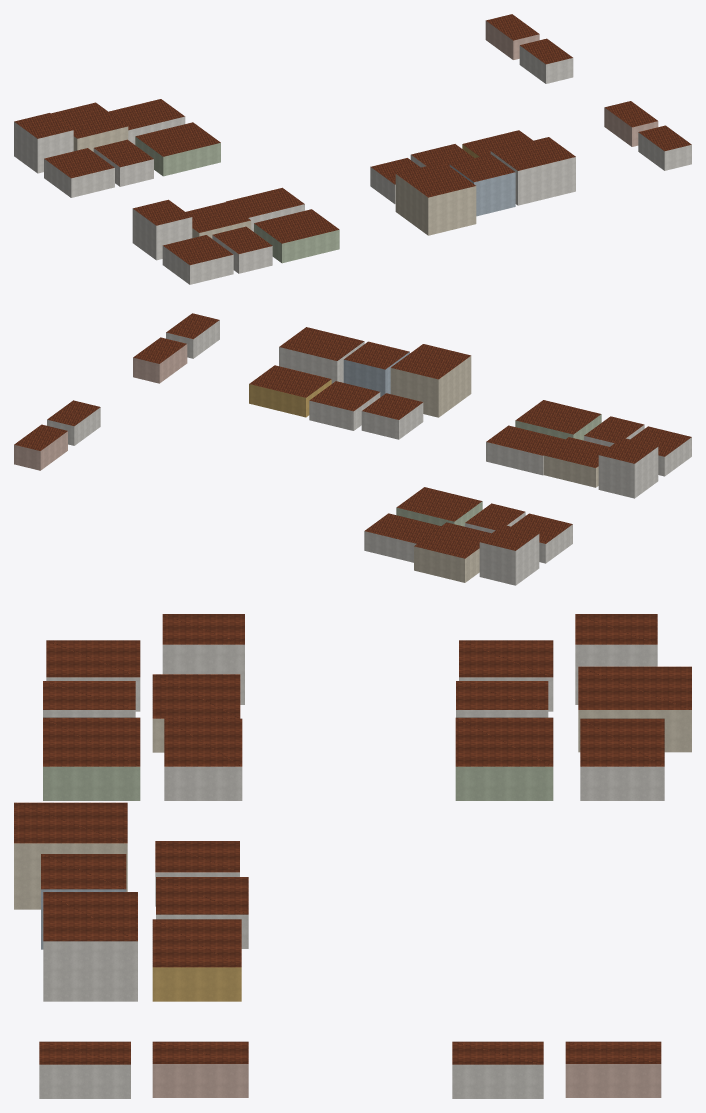
Rendered from cidade_S04_03.gltf.
3 views of the same model, one above another, from view 1: azimuth 30°, elevation 25°; view 2: azimuth 150°, elevation 25°; view 3: azimuth 270°, elevation 25° (orthographic). The views are drawn at different scales.
Visible parts, largest first — view 1: S04_03_Estatico; view 2: S04_03_Estatico; view 3: S04_03_Estatico.
Boxes of the visible parts, bbox=[...] form: S04_03_Estatico: bbox=[14, 14, 691, 284]; S04_03_Estatico: bbox=[14, 313, 691, 585]; S04_03_Estatico: bbox=[14, 614, 691, 1098].
Bounding box in the file's own units: 97.33 × 7.1 × 65.7.
7 materials, 7 textured.
